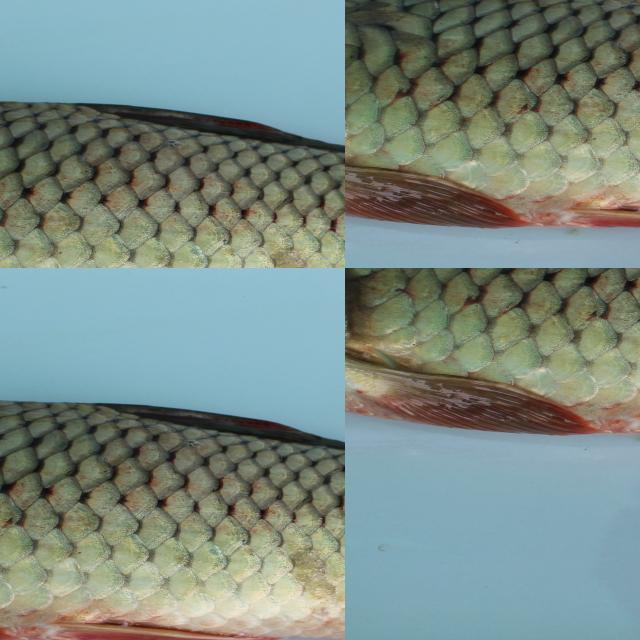fish: (345, 268, 640, 511)
